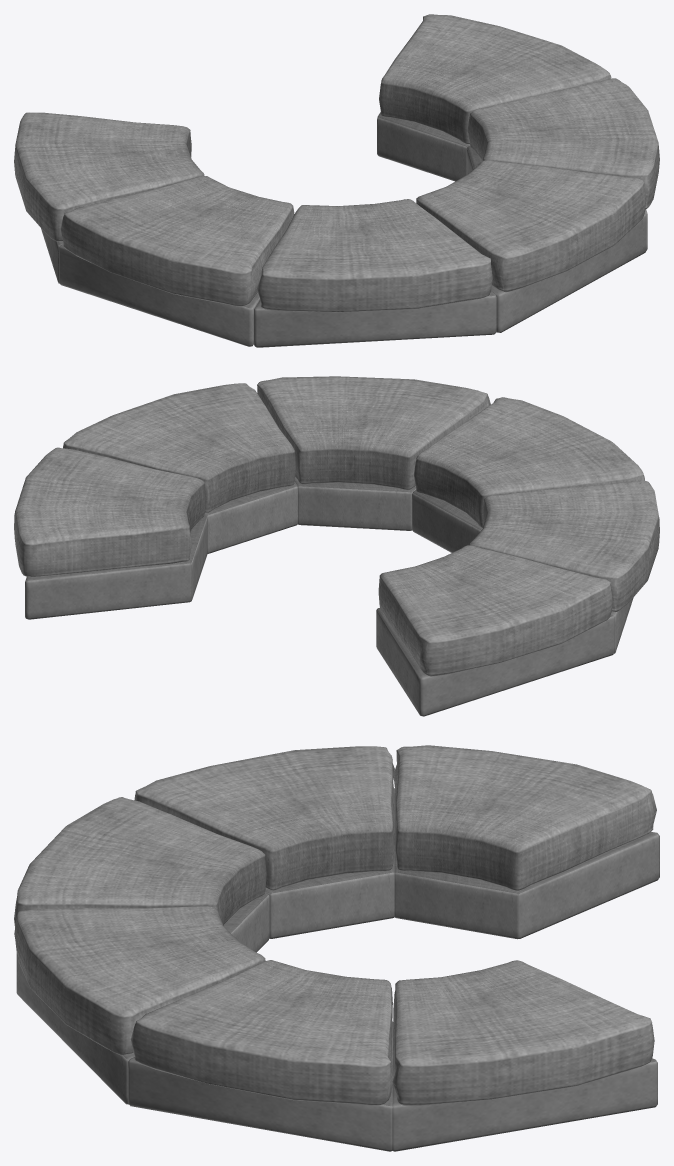
Rendered from Sofa 8.FBX.
3 views of the same model, one above another, from view 1: azimuth 30°, elevation 25°; view 2: azimuth 150°, elevation 25°; view 3: azimuth 270°, elevation 25° (orthographic). The views are drawn at different scales.
Visible parts, largest first — view 1: Sofa 8; view 2: Sofa 8; view 3: Sofa 8.
Boxes of the visible parts, x1,y1,x2,y2 form: Sofa 8: (14,14,659,347); Sofa 8: (14,376,659,716); Sofa 8: (14,745,659,1151).
Size of the model in its own units: 346 by 45.55 by 294.
